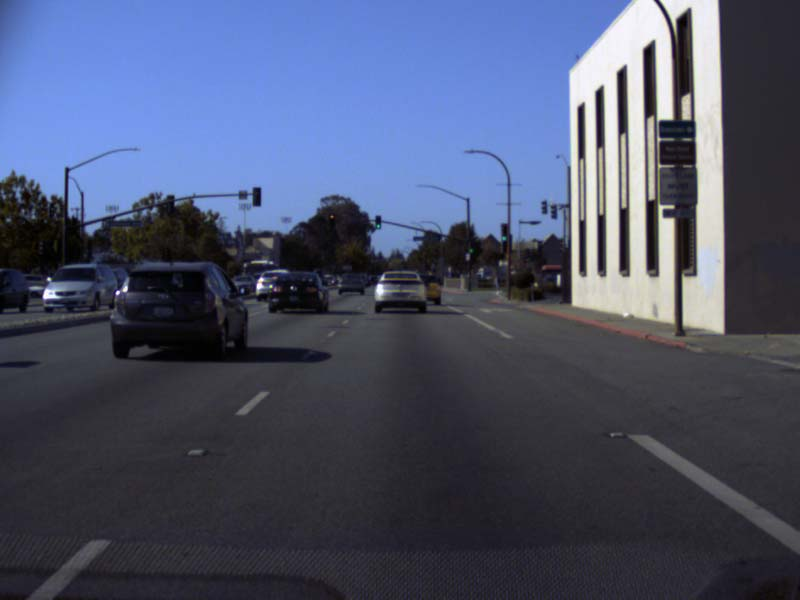Green: (501, 225, 507, 241), (467, 237, 473, 253), (376, 215, 380, 229)
Red: (328, 214, 334, 225)
